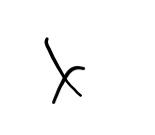mult: (43, 37, 85, 105)
